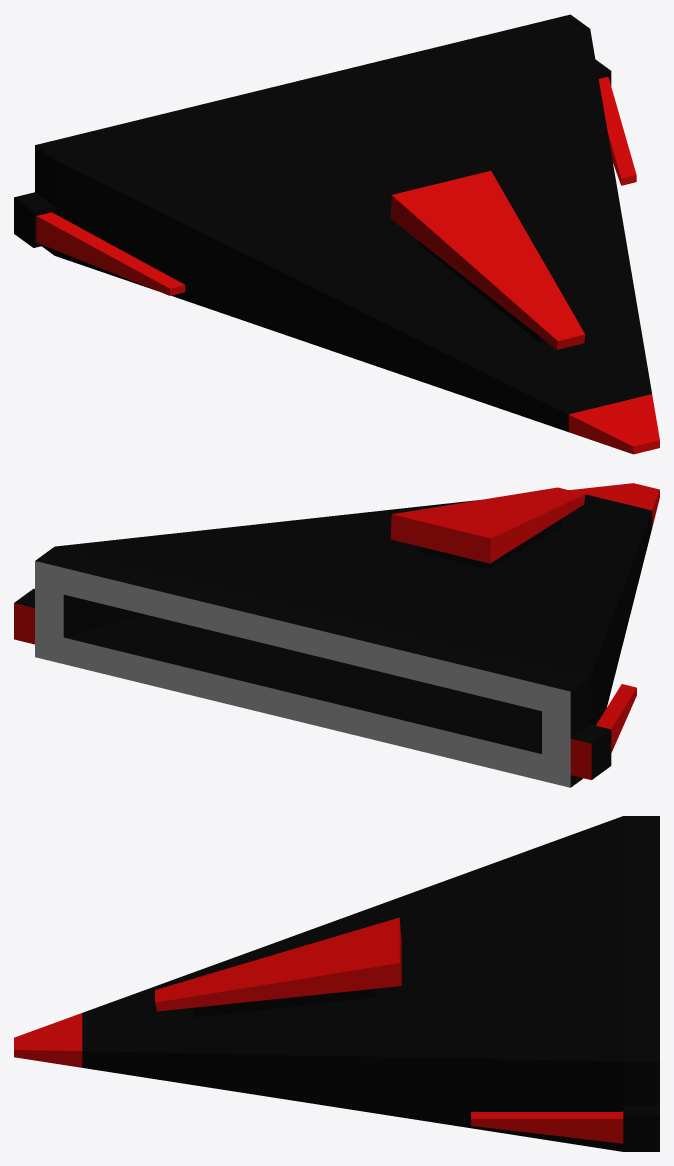
The model's file is B_Spaceship_6_Black_and_Red.fbx.
3 views of the same model, one above another, from view 1: azimuth 30°, elevation 25°; view 2: azimuth 150°, elevation 25°; view 3: azimuth 270°, elevation 25° (orthographic). The views are drawn at different scales.
Parts seen in each view (by area): view 1: pCube1; view 2: pCube1; view 3: pCube1.
Boxes of the visible parts, <box> form: pCube1: <box>14,14,659,454</box>; pCube1: <box>14,483,659,787</box>; pCube1: <box>14,816,659,1151</box>.
Bounding box in the file's own units: 0.0476 × 0.0491 × 0.00942.
